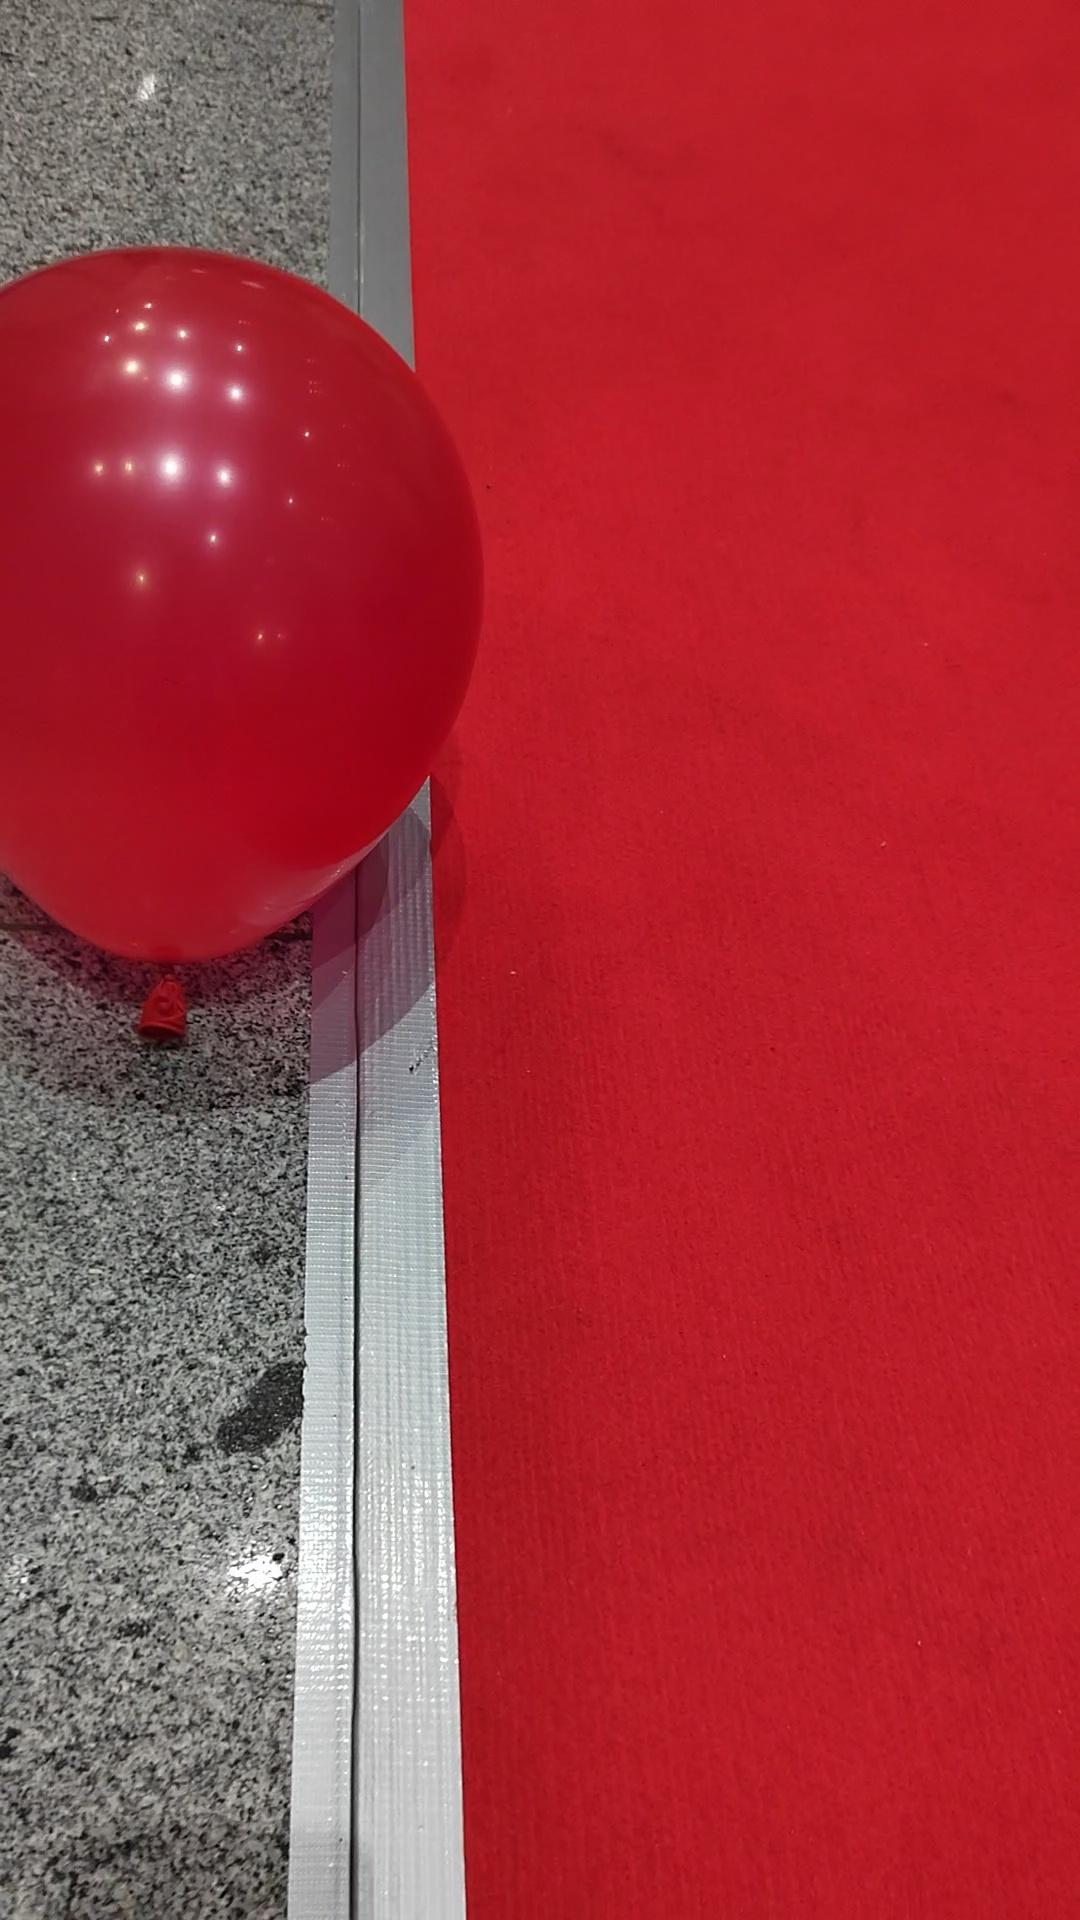red: (1, 257, 487, 972)
